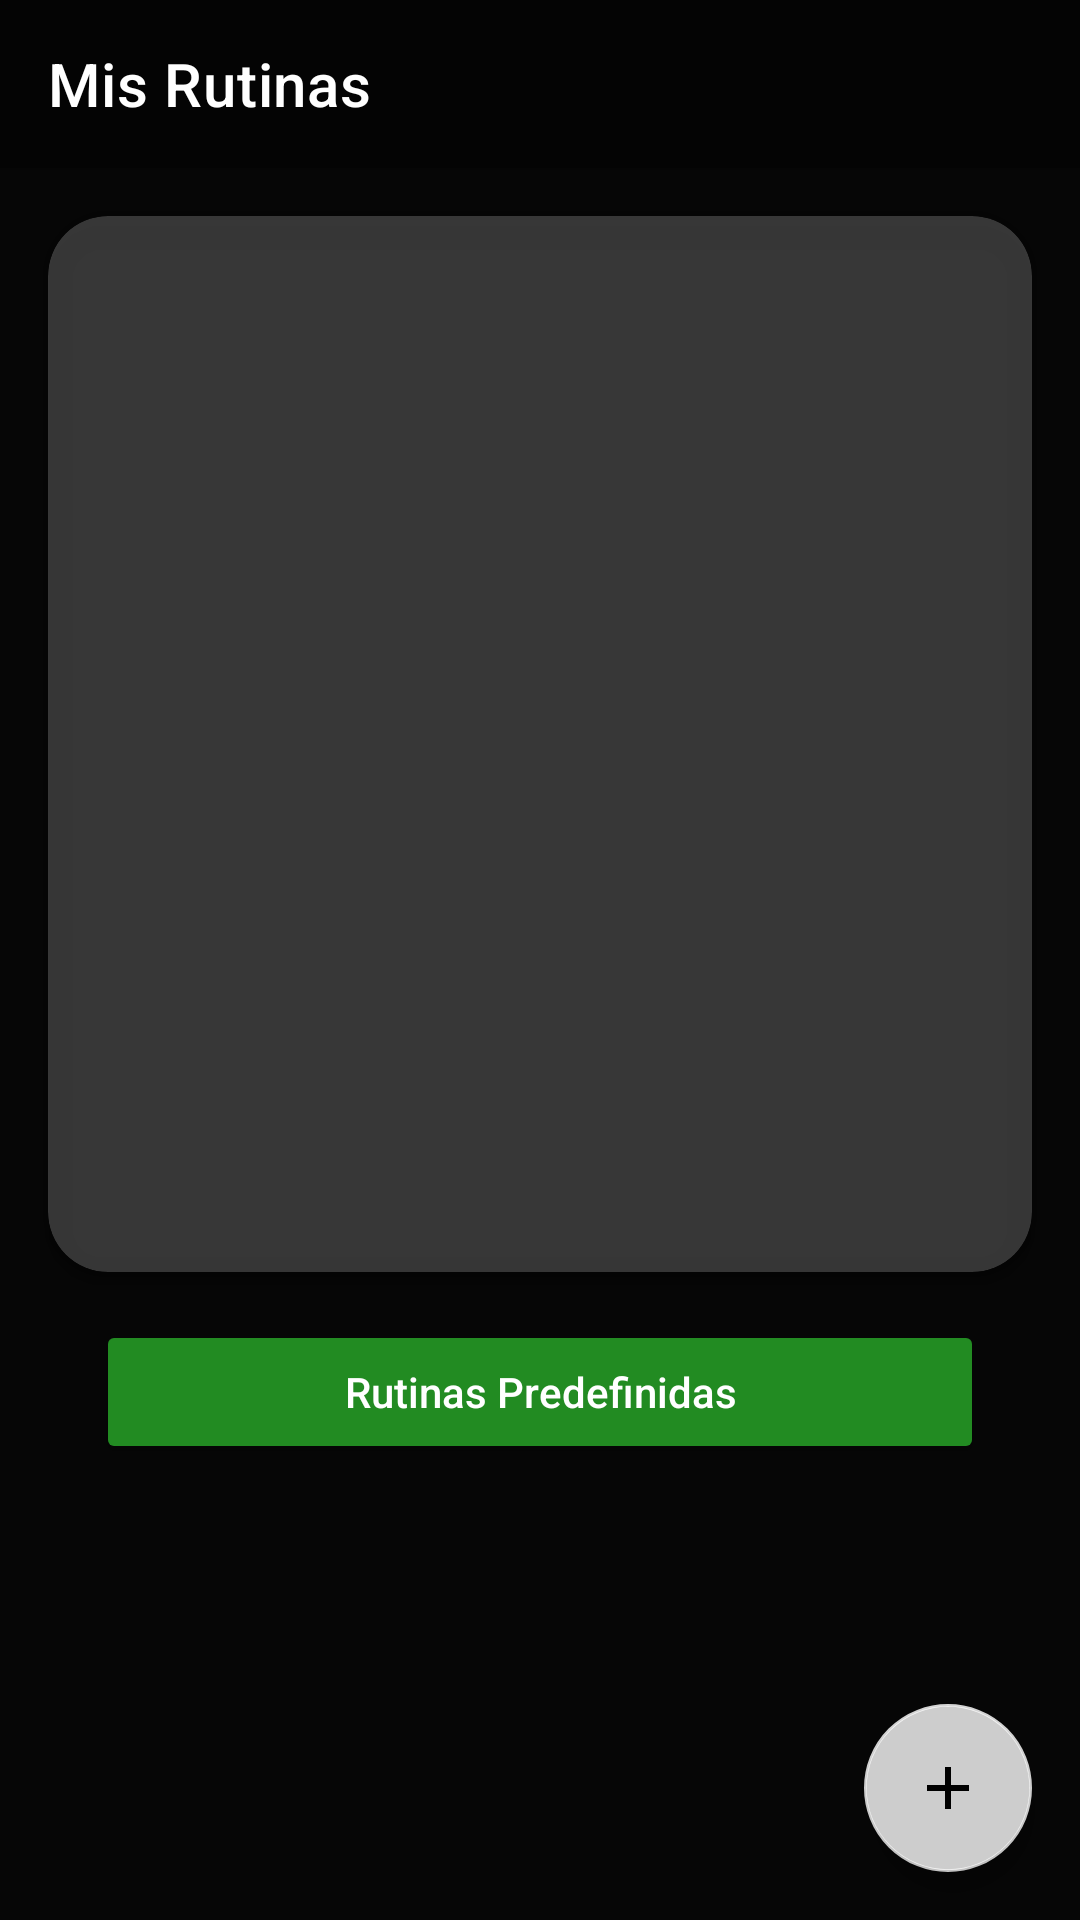

Icons on this 1080*1920 Android screen, each with its box as region(x1, y1, x2, y2):
Agregar rutina: region(864, 1704, 1032, 1872)
